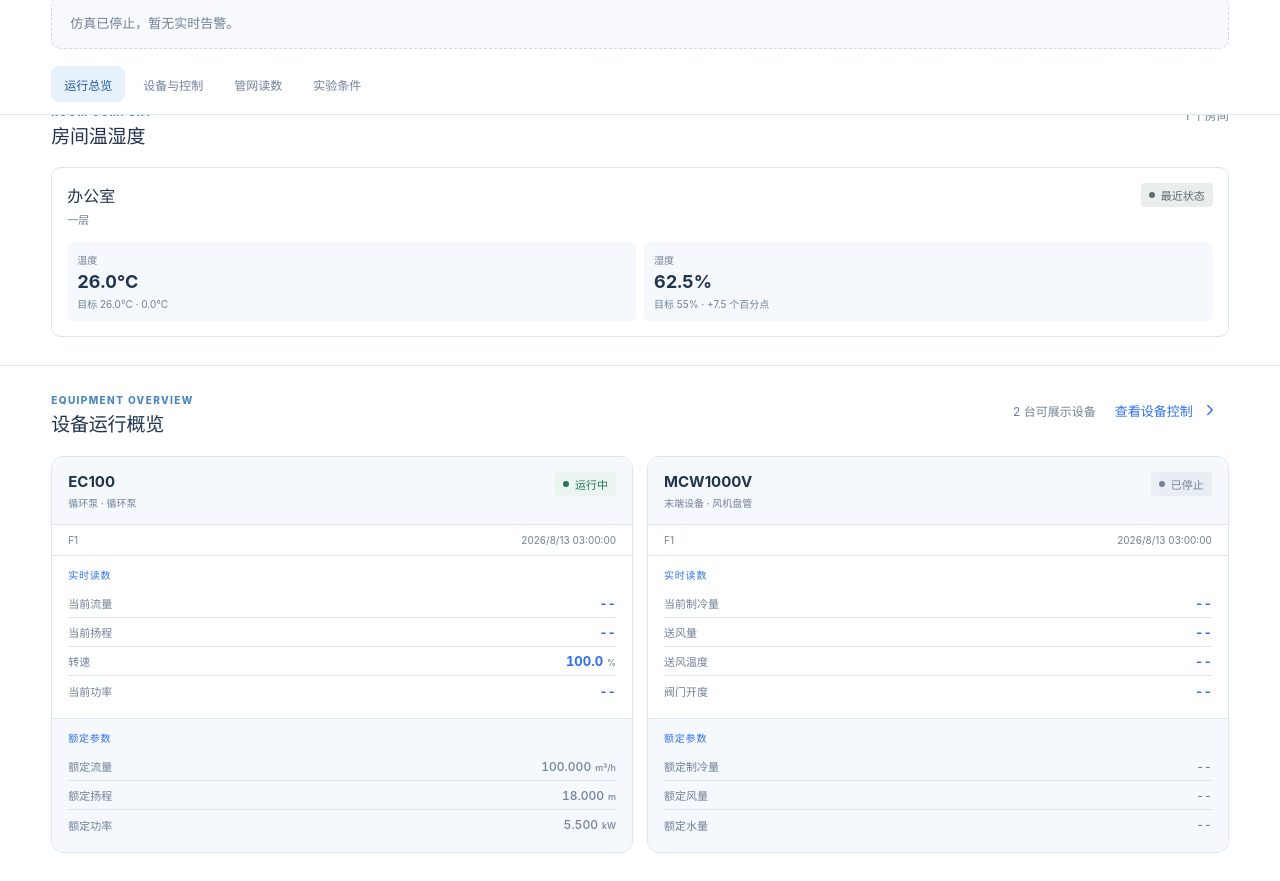
Test: runtime device controls › renders the equipment-card prototype from existing rated and runtime data
(page scrolled)
Click the button with class "device-card" that starts with "EC100".
click(342, 655)  # box [51,456,633,853]
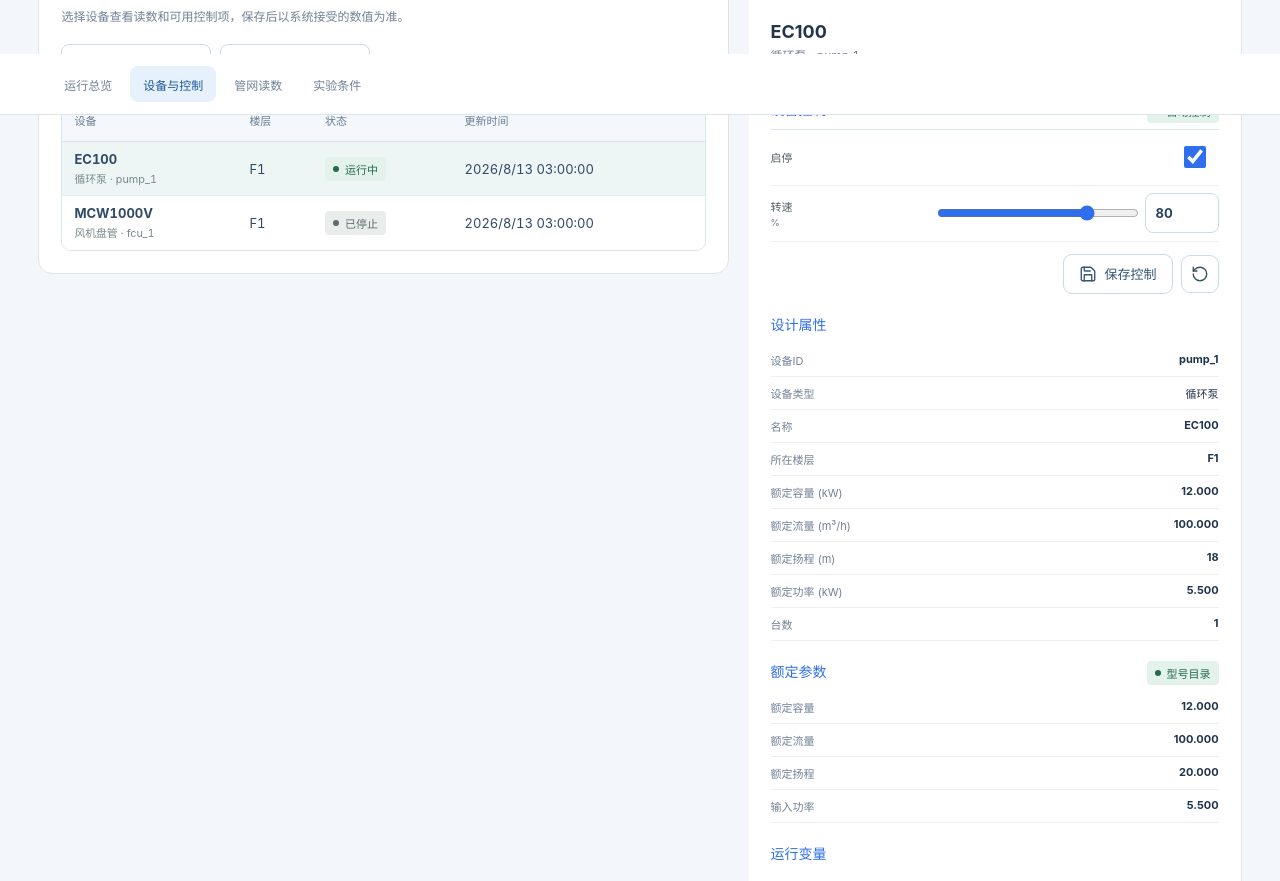
Expected: the element with class "device-identity" shows "EC100", [771,21,827,42]
